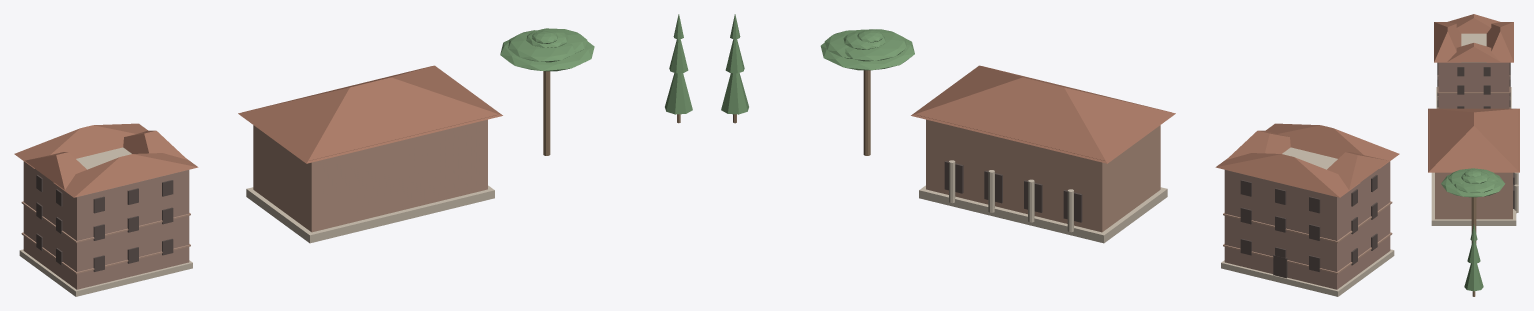
Rendered from rome-kit.glb.
The picture shows the model from 3 angles, left to right: view 1: azimuth 30°, elevation 25°; view 2: azimuth 150°, elevation 25°; view 3: azimuth 270°, elevation 25°; orthographic projection. The views are drawn at different scales.
Visible parts, largest first — view 1: palace-body, palace-roof, insula-body-south, insula-roof-south, palace-plinth-stone, insula-roof-north, insula-body-west, insula-plinth-stone, insula-body-north, insula-roof-west, pine-crown-0, pine-crown-2 (+4 smaller); view 2: palace-body, palace-roof, insula-body-north, insula-roof-north, palace-plinth-stone, insula-roof-south, insula-body-west, insula-plinth-stone, insula-body-south, insula-roof-west, pine-crown-0, pine-crown-2 (+5 smaller); view 3: palace-roof, palace-body, insula-body-east, insula-roof-north, insula-roof-south, insula-body-north, insula-body-south, palace-plinth-stone, insula-roof-east, insula-roof-west, pine-crown-0, pine-crown-1 (+15 smaller).
Boxes of the visible parts, bbox=[...] form: palace-body: bbox=[253, 119, 487, 232]; palace-roof: bbox=[238, 65, 502, 163]; insula-body-south: bbox=[63, 170, 189, 289]; insula-roof-south: bbox=[53, 153, 198, 197]; palace-plinth-stone: bbox=[246, 185, 494, 243]; insula-roof-north: bbox=[14, 123, 147, 168]; insula-body-west: bbox=[37, 171, 62, 279]; insula-plinth-stone: bbox=[19, 249, 192, 296]; insula-body-north: bbox=[23, 161, 37, 260]; insula-roof-west: bbox=[25, 152, 86, 189]; pine-crown-0: bbox=[500, 40, 594, 71]; pine-crown-2: bbox=[508, 30, 575, 62]; palace-body: bbox=[926, 119, 1160, 232]; palace-roof: bbox=[911, 65, 1175, 163]; insula-body-north: bbox=[1224, 170, 1350, 289]; insula-roof-north: bbox=[1215, 153, 1360, 197]; palace-plinth-stone: bbox=[919, 185, 1167, 243]; insula-roof-south: bbox=[1266, 123, 1399, 168]; insula-body-west: bbox=[1351, 171, 1376, 279]; insula-plinth-stone: bbox=[1221, 249, 1394, 296]; insula-body-south: bbox=[1376, 161, 1390, 260]; insula-roof-west: bbox=[1327, 152, 1388, 189]; pine-crown-0: bbox=[820, 29, 914, 70]; pine-crown-2: bbox=[845, 29, 906, 61]; palace-roof: bbox=[1428, 108, 1519, 172]; palace-body: bbox=[1435, 172, 1512, 219]; insula-body-east: bbox=[1457, 62, 1490, 108]; insula-roof-north: bbox=[1486, 22, 1513, 62]; insula-roof-south: bbox=[1434, 22, 1461, 62]; insula-body-north: bbox=[1491, 62, 1509, 108]; insula-body-south: bbox=[1438, 62, 1456, 108]; palace-plinth-stone: bbox=[1431, 172, 1516, 225]; insula-roof-east: bbox=[1447, 43, 1500, 62]; insula-roof-west: bbox=[1448, 14, 1499, 33]; pine-crown-0: bbox=[1441, 174, 1505, 197]; pine-crown-1: bbox=[1454, 180, 1497, 192].
Bounding box in the file's own units: 58.82 × 10.57 × 10.82.
